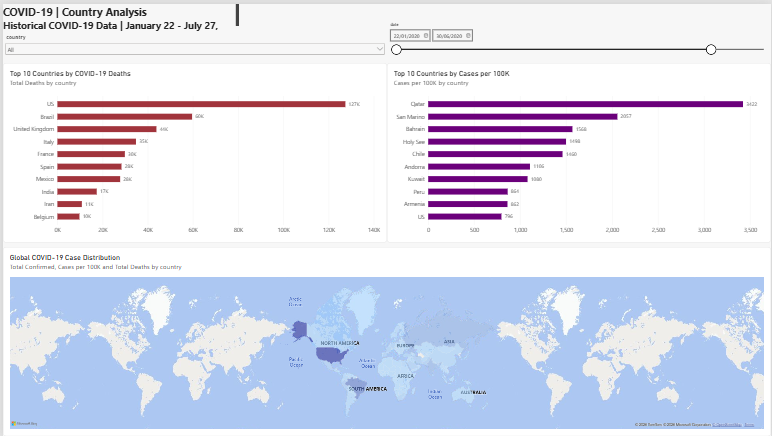

What the dashboard file says about the page in this screenshot:
{"tool":"powerbi","page":{"name":"Country Analysis","canvas":[1920,1080],"ordinal":1},"visuals":[{"type":"clusteredBarChart","title":"Top 10 Countries by COVID-19 Deaths","fields":{"Category":["covid_cleaned.country"],"Y":["covid_cleaned.Total Deaths"]},"box":[0,147.1,960,448.6],"z":0},{"type":"clusteredBarChart","title":"Top 10 Countries by Cases per 100K","fields":{"Category":["covid_cleaned.country"],"Y":["covid_cleaned.Cases per 100K"]},"box":[960,147.1,960,448.6],"z":1000},{"type":"slicer","fields":{"Values":["covid_cleaned.country"]},"box":[0,74,960,74],"z":2000},{"type":"slicer","fields":{"Values":["covid_cleaned.date"]},"box":[960,46,960,100],"z":3000},{"type":"filledMap","title":"Global COVID-19 Case Distribution","fields":{"Category":["covid_cleaned.country"]},"box":[0,606.7,1920,473.3],"z":4000},{"type":"textbox","box":[0,0,590,73.6],"z":5000}]}

Visuals, with their boxes in screenshot pixels (x1, y1, x2, y2), scaled from the page's 1920x1080 canvas onto the 772x436 screenshot:
"Top 10 Countries by COVID-19 Deaths" clusteredBarChart: [0,59,386,240]
"Top 10 Countries by Cases per 100K" clusteredBarChart: [386,59,771,240]
slicer - covid_cleaned.country: [0,30,386,60]
slicer - covid_cleaned.date: [386,19,771,59]
"Global COVID-19 Case Distribution" filledMap: [0,245,771,435]
textbox: [0,0,237,30]
